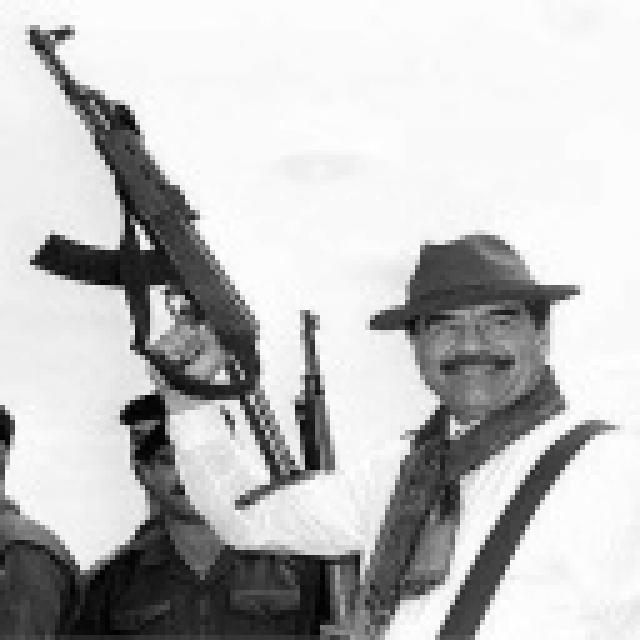Rifle: (0, 0, 355, 527), (283, 284, 408, 640)
